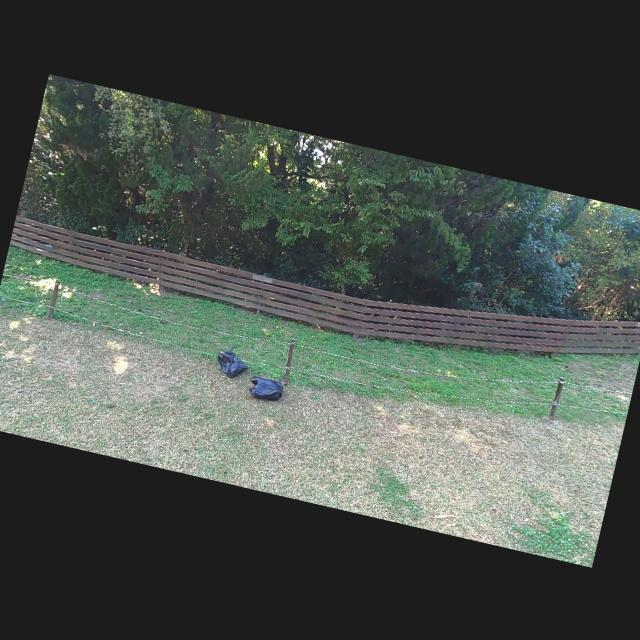trash: (212, 340, 252, 380), (244, 371, 286, 406)
